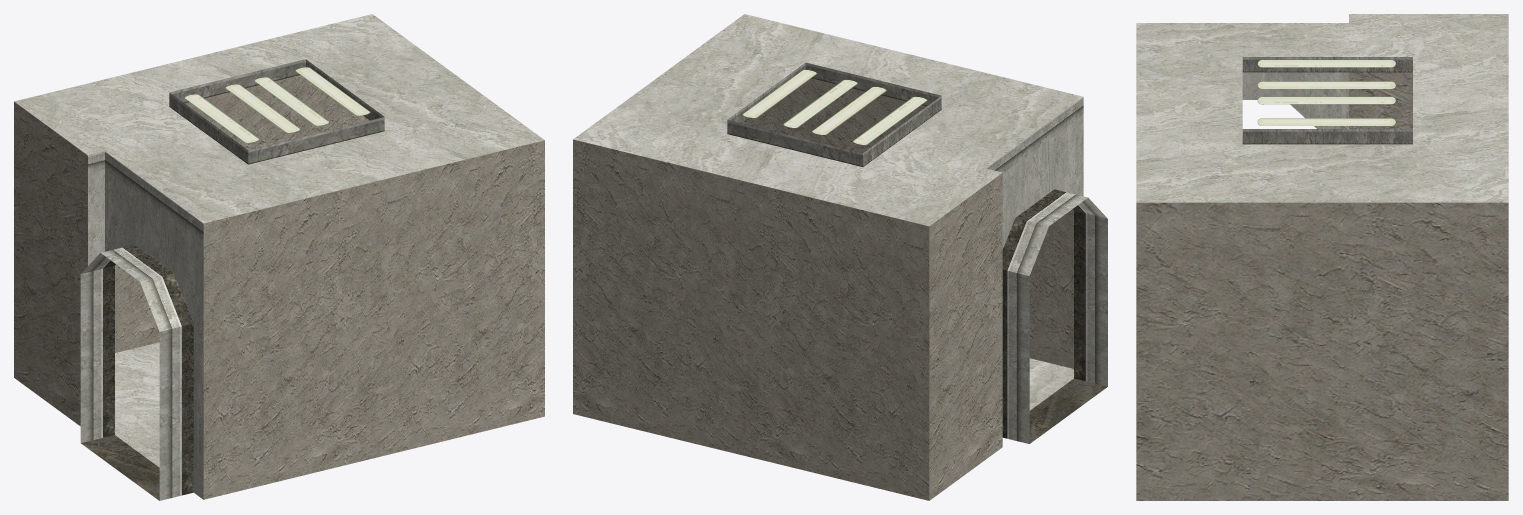
File: thm_tato_assoc_hall_civ_s01_r7_closeta_mesh_closet_a.fbx
3 views of the same model, side by side, from view 1: azimuth 30°, elevation 25°; view 2: azimuth 150°, elevation 25°; view 3: azimuth 270°, elevation 25° (orthographic). The views are drawn at different scales.
Parts seen in each view (by area): view 1: mesh_node; view 2: mesh_node; view 3: mesh_node.
Boxes of the visible parts, x1,y1,x2,y2 form: mesh_node: (14, 14, 544, 500); mesh_node: (573, 14, 1107, 500); mesh_node: (1136, 14, 1508, 500).
Size of the model in its own units: 5.5 by 4.07 by 4.38.
